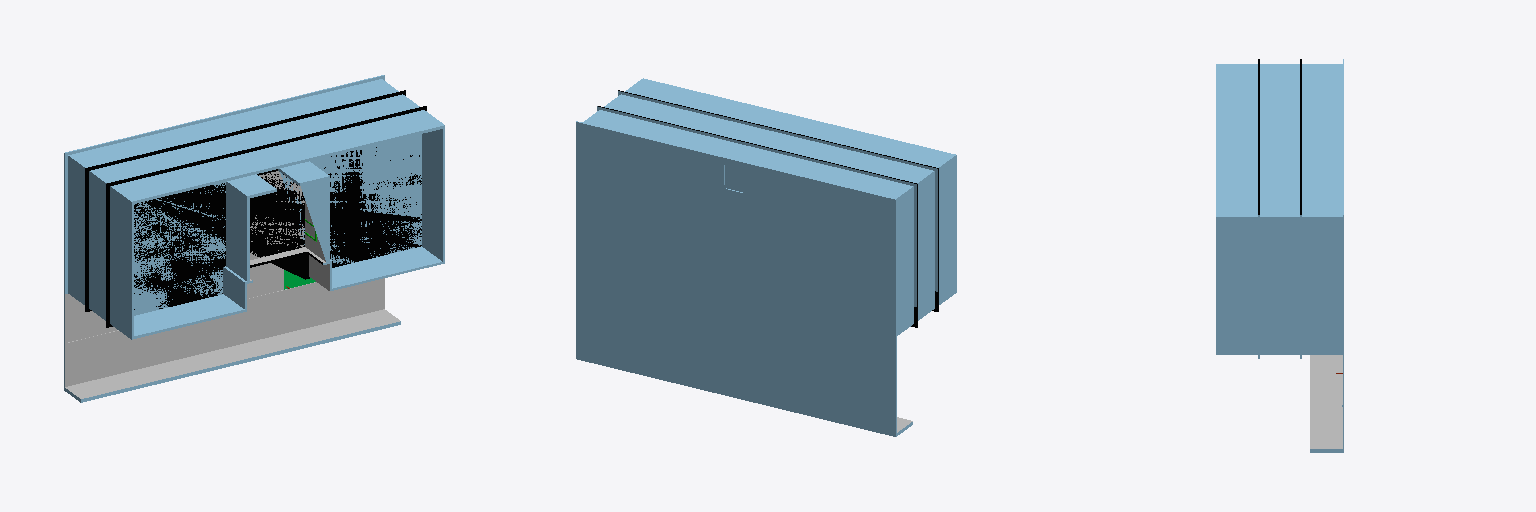
Rendered from inferno.obj.
3 renders of one model, left to right at view 1: azimuth 30°, elevation 25°; view 2: azimuth 150°, elevation 25°; view 3: azimuth 270°, elevation 25°, orthographic.
Parts seen in each view (by area): view 1: Floor_2_Floor_1_Plane.001, Lobby_Plane.001, Floor_1_Floor_1_Plane.002; view 2: Lobby_Plane.001, Floor_2_Floor_1_Plane.001, Floor_1_Floor_1_Plane.002; view 3: Lobby_Plane.001, Floor_2_Floor_1_Plane.001, Floor_1_Floor_1_Plane.002.
Boxes of the visible parts, x1,y1,x2,y2 form: Floor_2_Floor_1_Plane.001: [106, 106, 444, 339]; Lobby_Plane.001: [64, 75, 400, 402]; Floor_1_Floor_1_Plane.002: [85, 90, 419, 320]; Lobby_Plane.001: [576, 110, 913, 436]; Floor_2_Floor_1_Plane.001: [618, 78, 956, 311]; Floor_1_Floor_1_Plane.002: [597, 94, 934, 327]; Lobby_Plane.001: [1302, 59, 1343, 452]; Floor_2_Floor_1_Plane.001: [1216, 59, 1259, 358]; Floor_1_Floor_1_Plane.002: [1260, 59, 1301, 358].
Size of the model in its own units: 35 by 24.8 by 12.15.